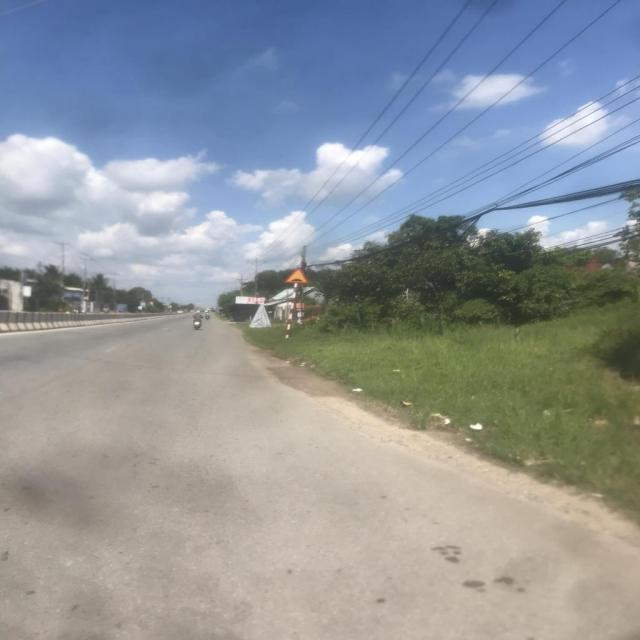221-duong-go-ghe: (284, 268, 308, 284)
